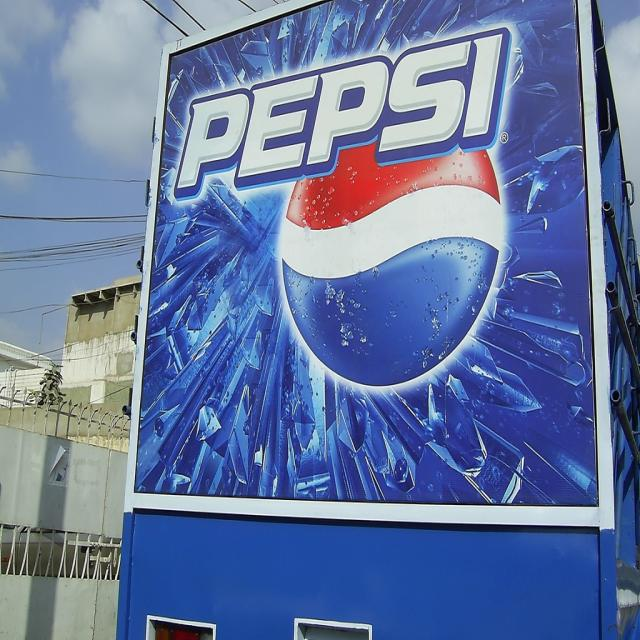pepsi: (278, 141, 512, 394)
